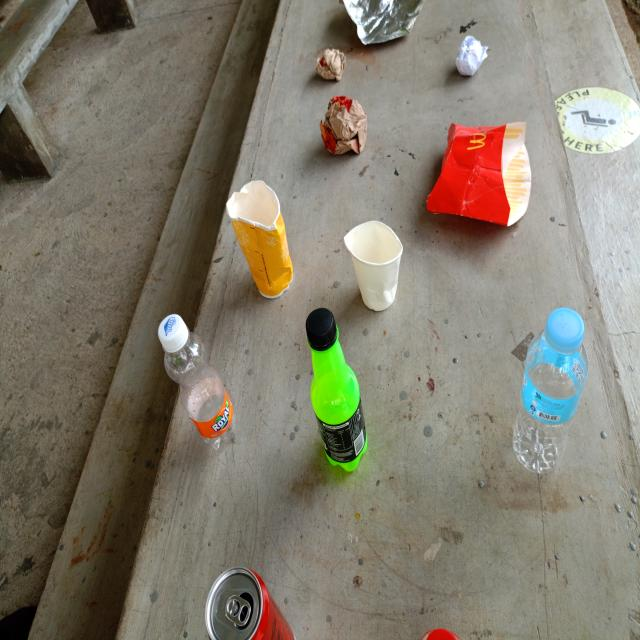Anorganik: (509, 303, 590, 477), (156, 312, 242, 452), (305, 305, 370, 470), (204, 563, 296, 640)
Organik: (425, 120, 532, 228), (222, 177, 296, 301), (342, 220, 403, 312), (318, 93, 369, 160), (452, 32, 488, 78), (315, 45, 345, 82)
